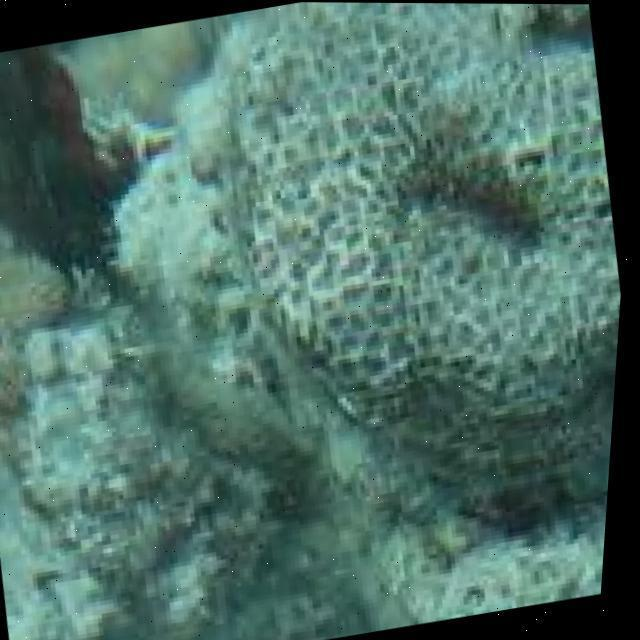Bleached Coral: (225, 42, 618, 440)
